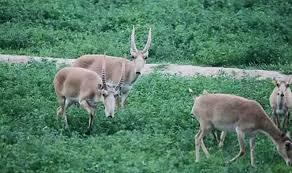saiga: (192, 92, 292, 173), (73, 25, 151, 118), (49, 59, 129, 133), (267, 75, 292, 132)
